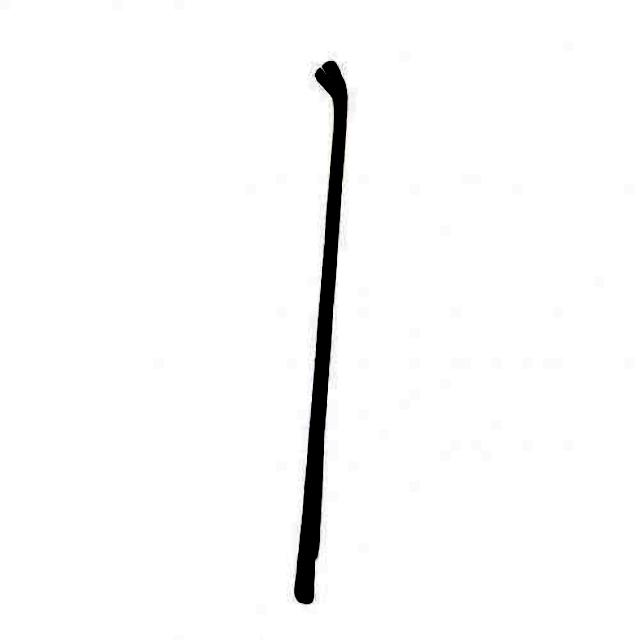crow bar: (285, 54, 353, 608)
